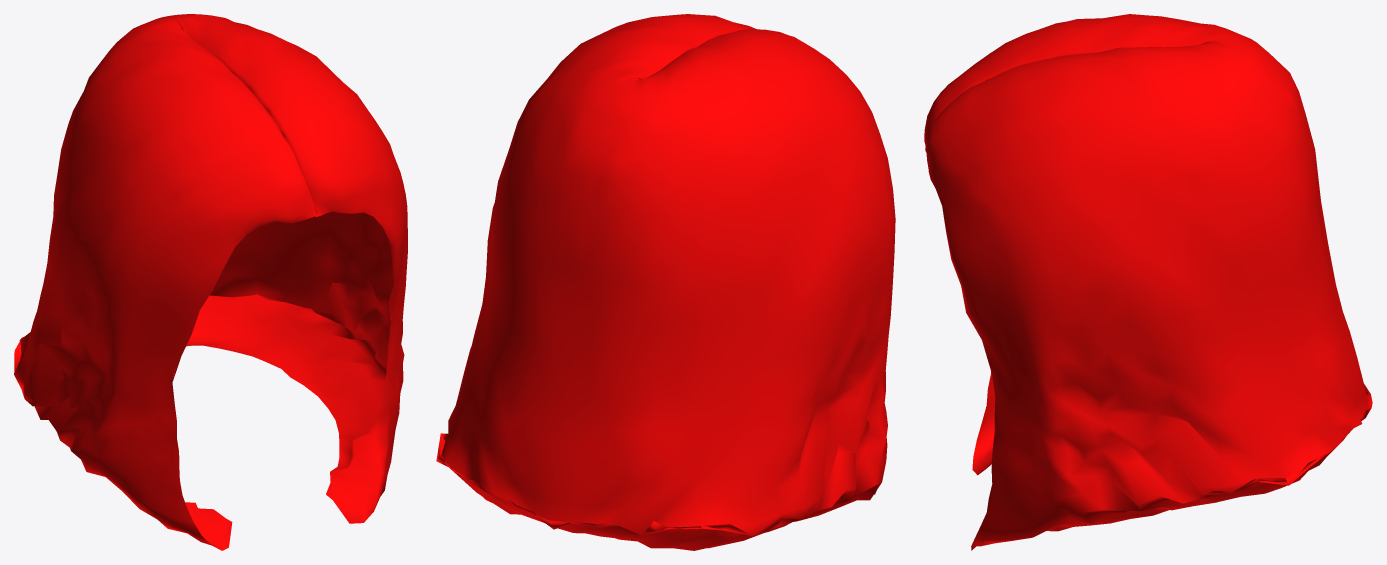
File: toigo_curled_under_bob_M.glb
3 renders of one model, left to right at view 1: azimuth 30°, elevation 25°; view 2: azimuth 150°, elevation 25°; view 3: azimuth 270°, elevation 25°, orthographic. The views are drawn at different scales.
Bounding box in the file's own units: 0.2035 × 0.2637 × 0.2256.
Materials: 1 (1 with a texture image).
